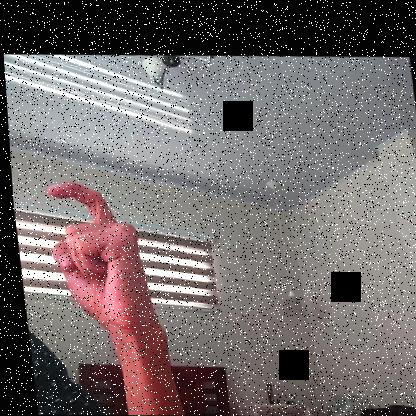X: (39, 172, 164, 349)
